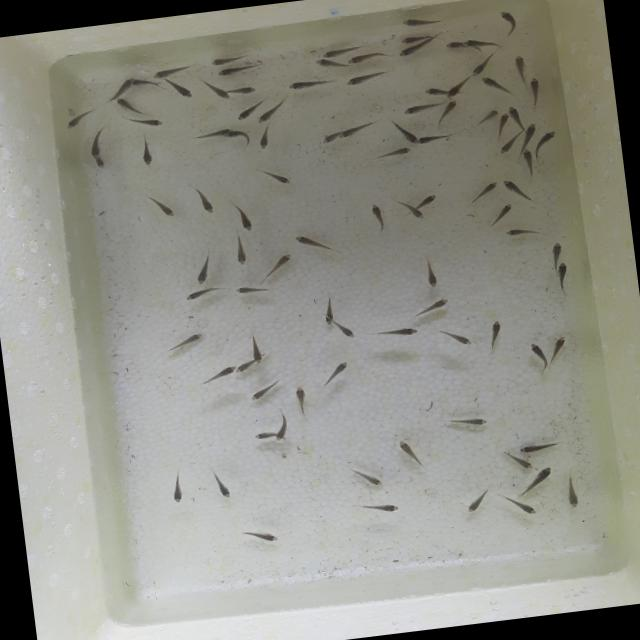fingerling: (343, 492, 407, 520), (232, 520, 284, 549), (346, 461, 391, 493), (291, 226, 339, 256), (163, 466, 195, 508), (259, 250, 297, 285), (392, 435, 428, 471), (207, 465, 240, 503), (142, 189, 178, 223), (188, 182, 220, 220), (436, 324, 476, 354), (258, 162, 298, 192), (62, 102, 102, 132), (461, 482, 498, 514), (342, 66, 393, 89), (444, 409, 494, 432), (336, 118, 382, 143), (317, 357, 352, 389), (195, 363, 238, 389), (192, 246, 218, 288), (166, 330, 207, 356), (516, 436, 570, 455), (214, 61, 268, 80), (496, 6, 527, 39), (501, 176, 536, 205), (482, 316, 508, 355), (182, 282, 228, 304), (479, 72, 515, 100), (136, 128, 160, 169), (367, 200, 393, 237), (284, 75, 334, 94), (198, 75, 230, 104), (400, 98, 445, 118), (508, 494, 542, 520), (148, 61, 194, 80), (230, 200, 254, 236), (164, 76, 196, 103), (243, 381, 282, 403), (231, 230, 252, 270), (252, 122, 280, 152), (416, 295, 454, 317), (470, 178, 502, 204), (375, 322, 421, 340), (346, 48, 392, 66), (270, 407, 293, 442), (502, 222, 542, 242), (398, 14, 442, 32), (468, 51, 497, 78), (206, 51, 252, 68), (421, 253, 442, 290), (223, 127, 255, 151), (564, 474, 584, 512), (318, 290, 339, 326), (124, 114, 166, 132), (290, 382, 310, 419), (318, 44, 364, 60), (443, 76, 473, 100), (488, 201, 516, 226), (552, 260, 573, 293), (462, 34, 500, 52), (233, 98, 259, 124), (510, 53, 530, 86), (526, 76, 546, 109), (334, 318, 360, 343), (369, 146, 415, 160), (231, 282, 270, 298), (86, 129, 106, 160), (248, 328, 264, 366), (548, 332, 570, 358), (528, 464, 556, 484), (508, 453, 536, 473), (414, 132, 454, 146), (395, 42, 427, 59), (314, 56, 348, 72), (230, 80, 260, 98), (536, 128, 562, 148), (472, 108, 500, 126), (546, 239, 566, 263), (252, 110, 282, 126), (522, 147, 538, 176), (397, 32, 428, 46), (116, 96, 140, 114), (234, 356, 254, 376), (497, 136, 517, 156), (115, 76, 136, 95), (523, 120, 542, 140), (528, 341, 546, 362), (318, 130, 340, 147), (442, 38, 464, 54), (418, 192, 440, 207), (507, 104, 522, 125), (422, 85, 446, 98), (252, 428, 274, 442), (410, 208, 428, 222), (496, 112, 510, 126), (445, 99, 460, 112), (95, 158, 108, 172)
